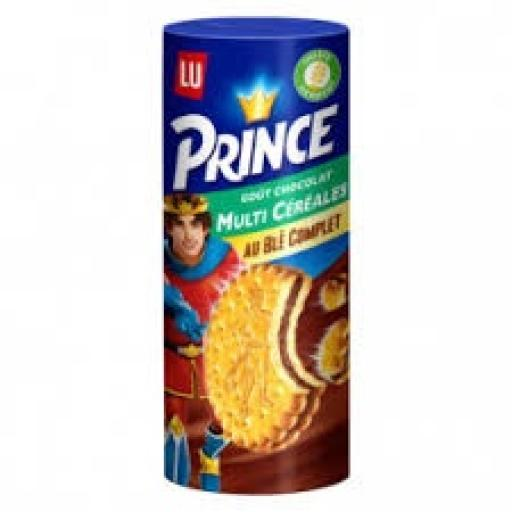prince: (108, 6, 443, 512)
